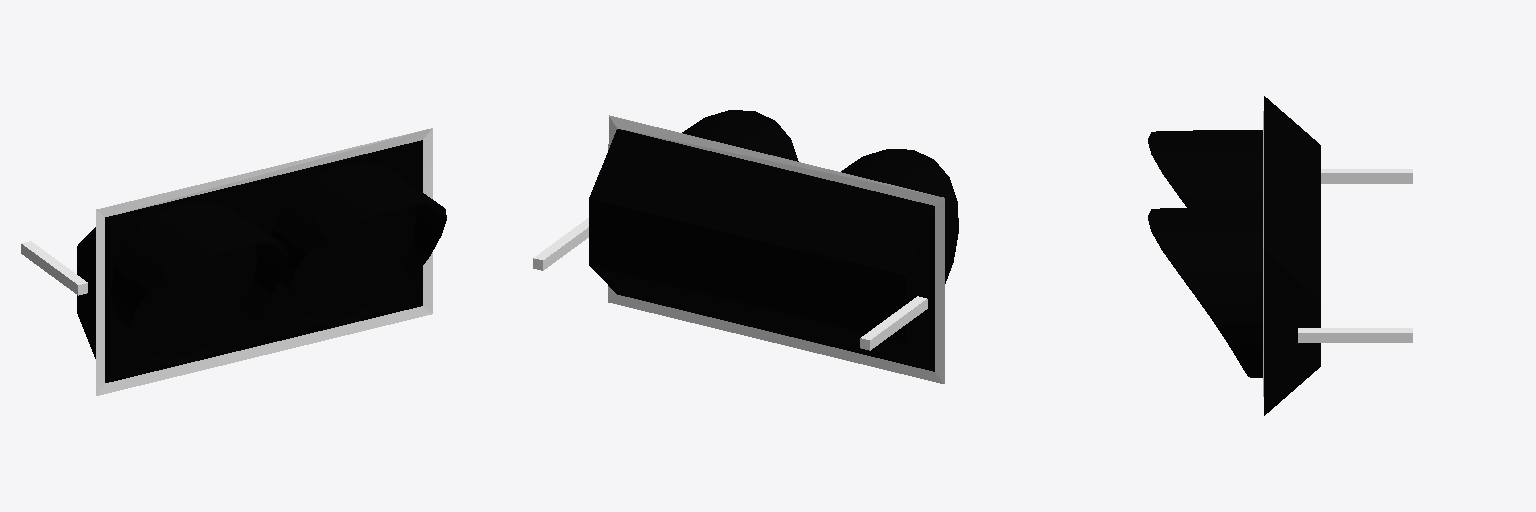
The model's file is TLS3short.obj.
3 views of the same model, side by side, from view 1: azimuth 30°, elevation 25°; view 2: azimuth 150°, elevation 25°; view 3: azimuth 270°, elevation 25° (orthographic).
Size of the model in its own units: 2.12 by 1.12 by 1.45.